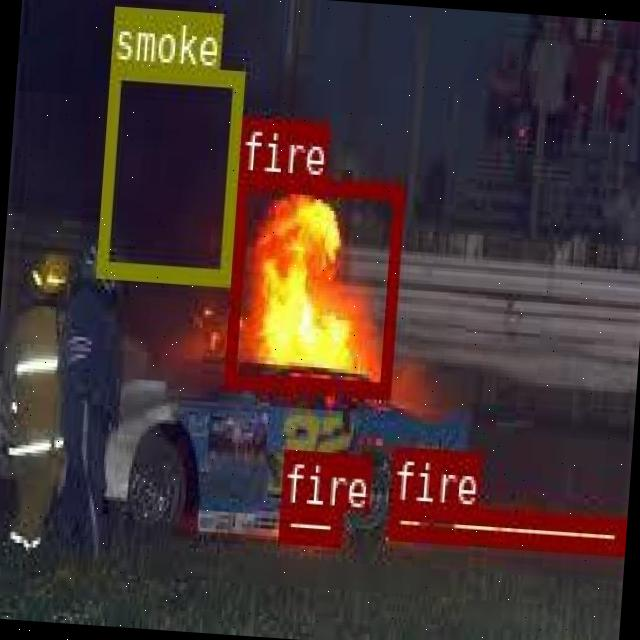fire: (224, 170, 402, 394), (387, 500, 622, 550), (278, 504, 339, 542)
smoke: (94, 61, 242, 282)
